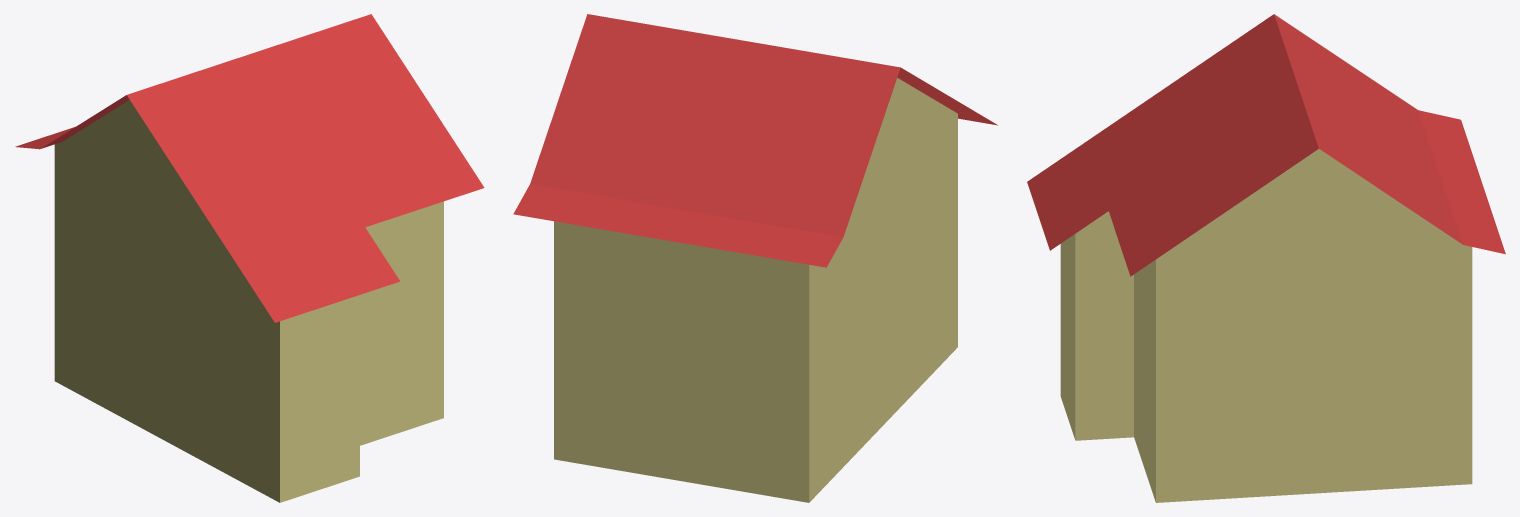
The picture shows the model from 3 angles, left to right: view 1: azimuth 30°, elevation 25°; view 2: azimuth 150°, elevation 25°; view 3: azimuth 270°, elevation 25°; orthographic projection. The views are drawn at different scales.
Bounding box in the file's own units: 12.44 × 16.03 × 13.2.
